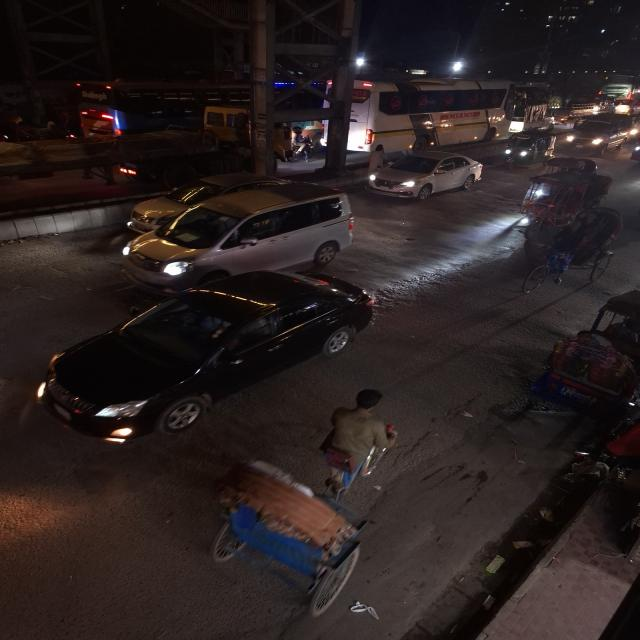bus: (355, 78, 519, 148), (72, 82, 203, 133)
car: (15, 264, 391, 443), (110, 183, 360, 279), (361, 148, 485, 202), (572, 115, 632, 156)
cng: (496, 129, 554, 167)
rickshaw: (204, 385, 414, 620), (540, 288, 640, 414), (523, 205, 628, 296), (511, 165, 613, 217)
